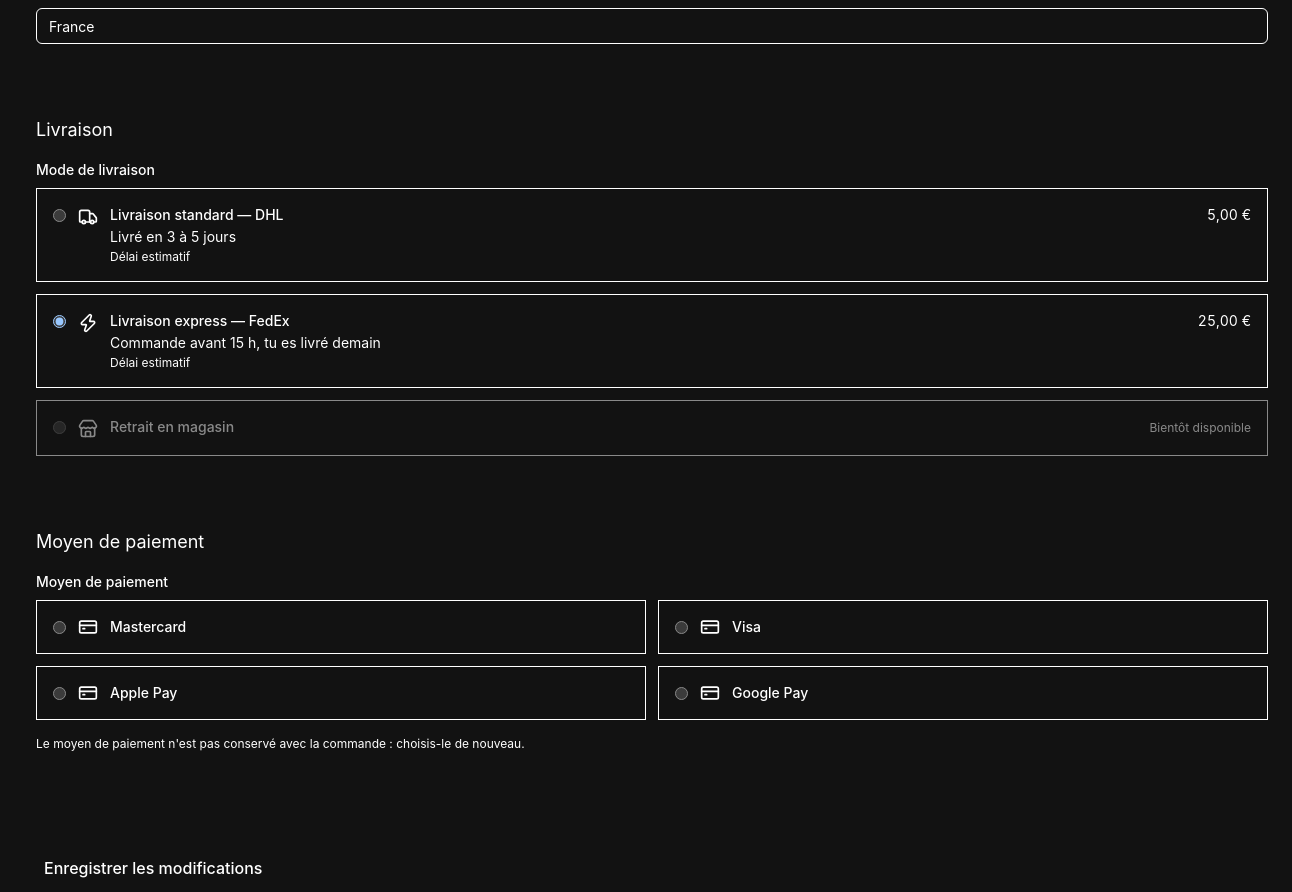
Scenario: OrderEditForm › saves the lines and shows the old and new totals
(page scrolled)
What coordinates should you click on to do the following:
click the radio button labelled "Visa"
I would click on:
 (682, 627)
Its box is [675,620,688,634].
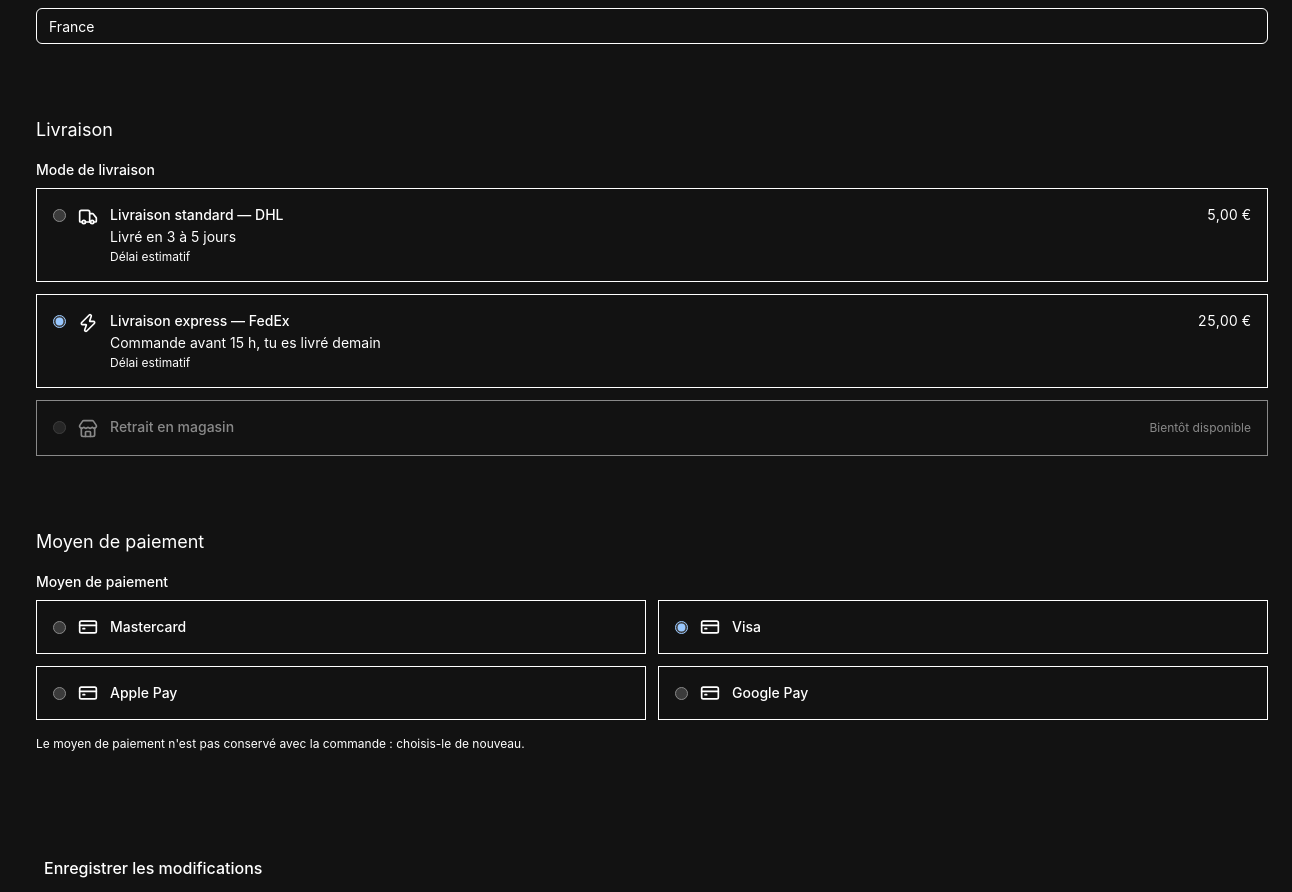
What coordinates should you click on to do the following:
click the button "Enregistrer les modifications"
I would click on:
 (153, 868)
Its box is [12,844,294,891].
(page scrolled)
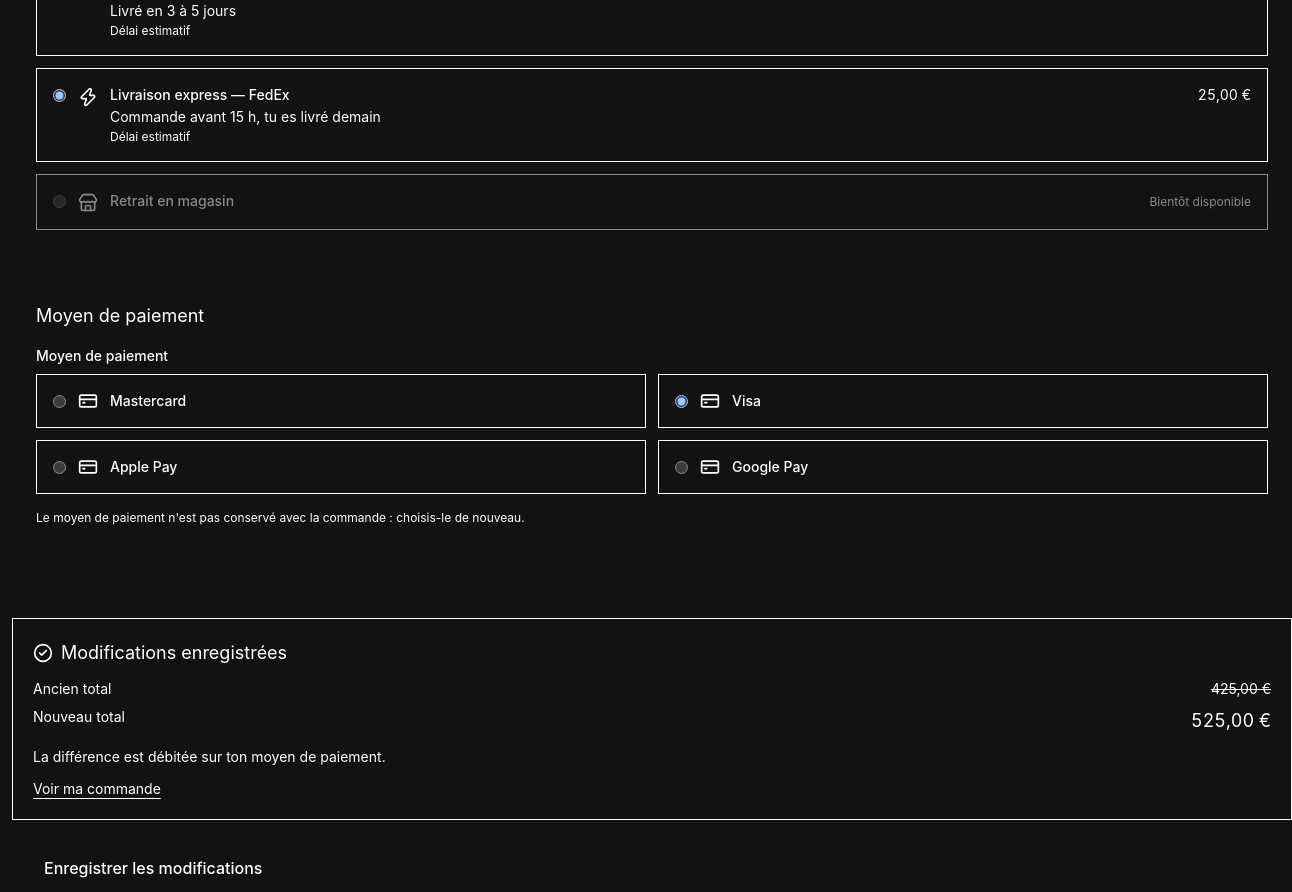
Result: the text with test id "edit-previous-total" shows "425,00" at [1211,680,1271,697]
Result: the text with test id "edit-new-total" shows "525,00" at [1191,710,1271,731]
Result: the text "La différence est débitée sur ton moyen de paiement." is shown at [33,748,386,765]
